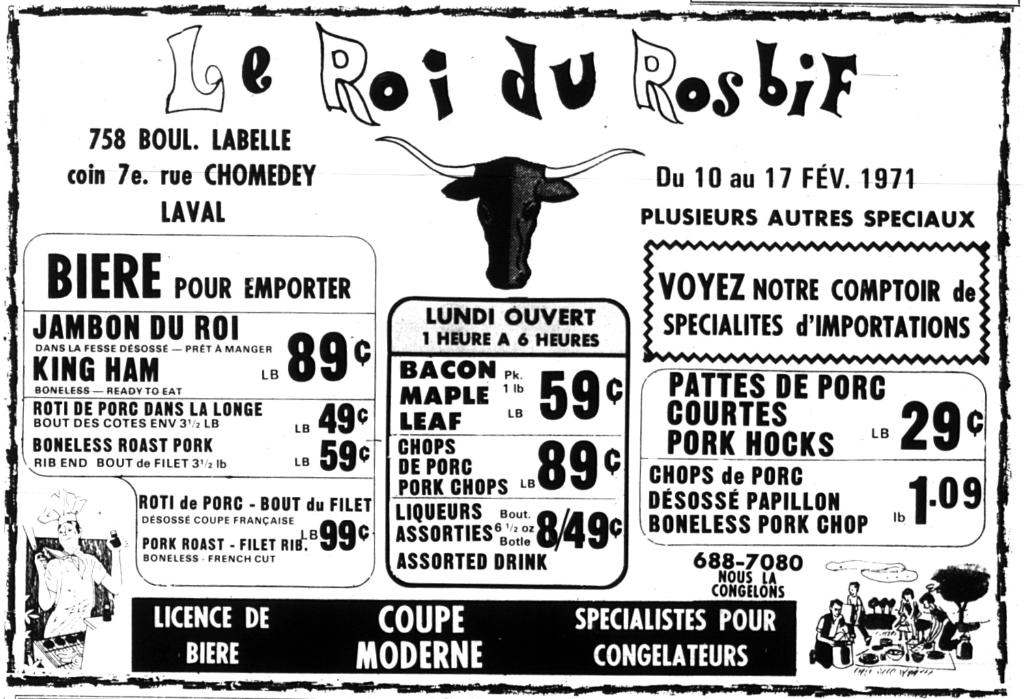Animal: (377, 127, 646, 283)
